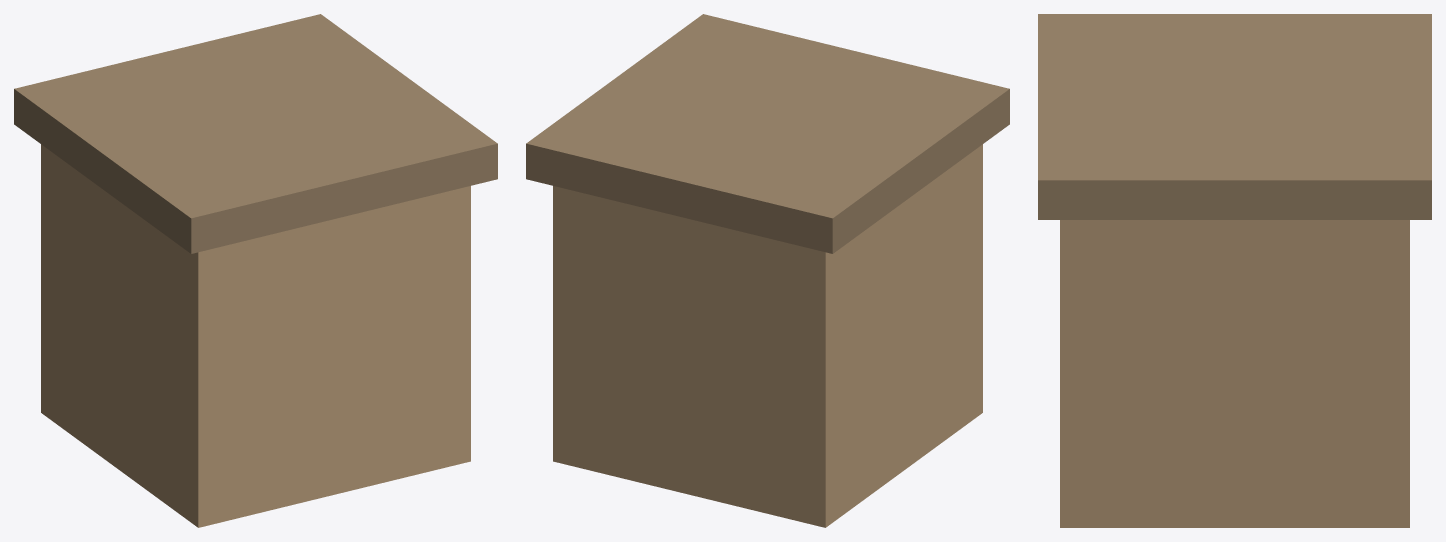
Rendered from static_prop.glb.
3 renders of one model, left to right at view 1: azimuth 30°, elevation 25°; view 2: azimuth 150°, elevation 25°; view 3: azimuth 270°, elevation 25°, orthographic. The views are drawn at different scales.
Size of the model in its own units: 0.9 by 0.9 by 0.9.
